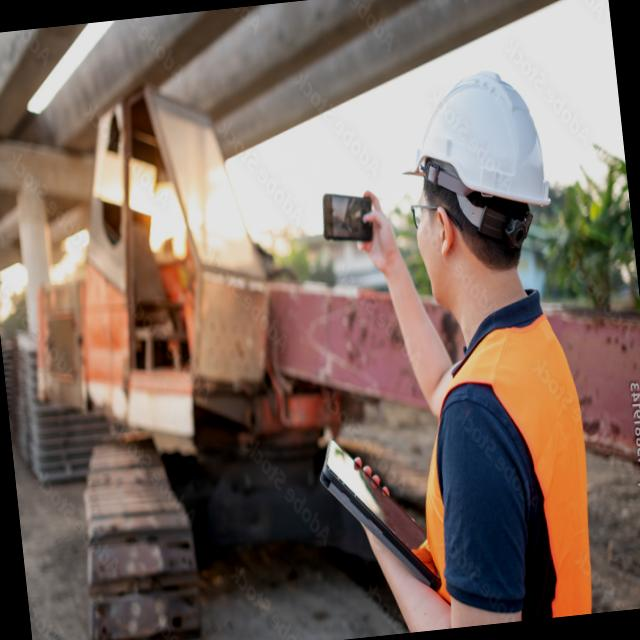helmet: (393, 59, 561, 245)
vest: (400, 292, 615, 630)
